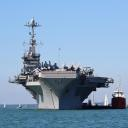Portanaves: (9, 17, 117, 112)
